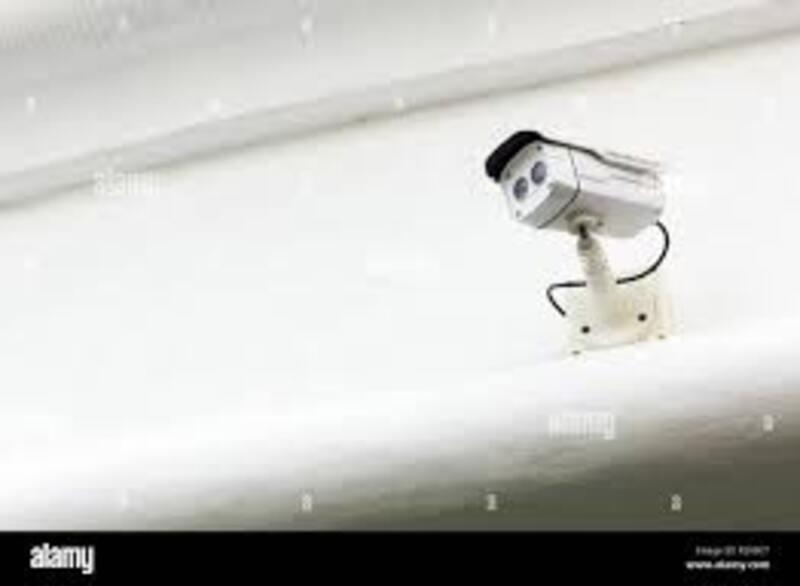bullet: (473, 125, 677, 246)
